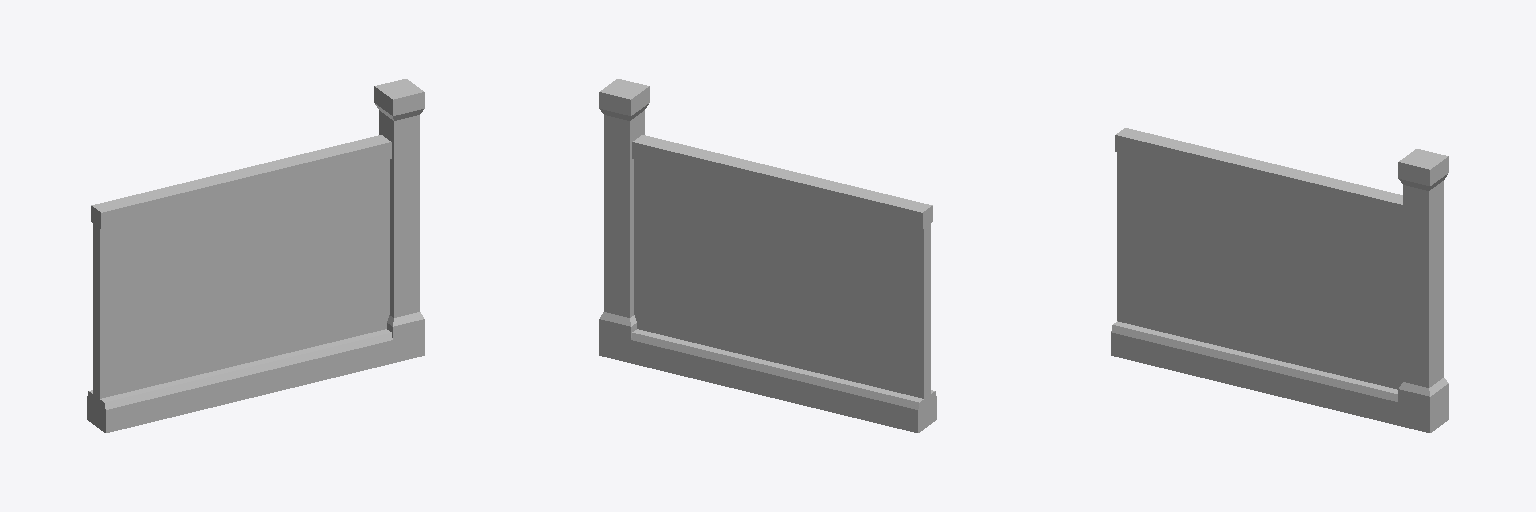
The model's file is fenceStone.obj.
3 renders of one model, left to right at view 1: azimuth 30°, elevation 25°; view 2: azimuth 150°, elevation 25°; view 3: azimuth 330°, elevation 25°, orthographic.
Visible parts, largest first — view 1: fenceStone; view 2: fenceStone; view 3: fenceStone.
Part boxes in pixels (bbox=[...]): fenceStone: bbox=[87, 79, 424, 432]; fenceStone: bbox=[599, 79, 936, 432]; fenceStone: bbox=[1111, 128, 1448, 432].
Bounding box in the file's own units: 10 × 7.9 × 1.